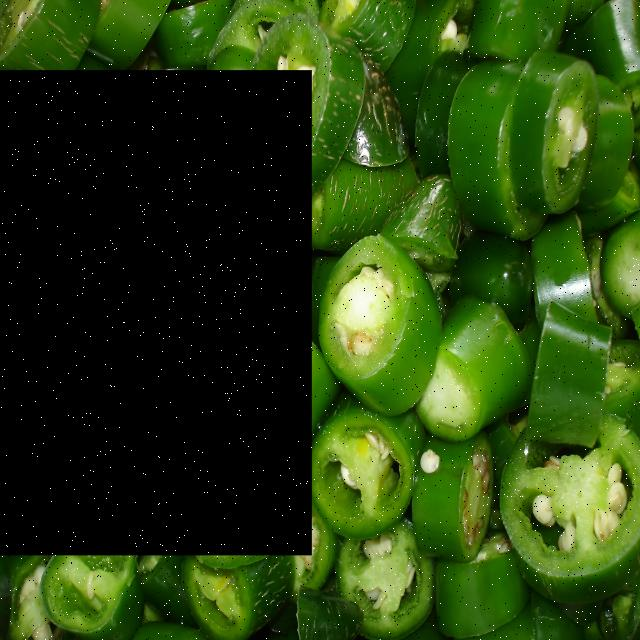Chili_Pepper: (0, 70, 312, 556)
